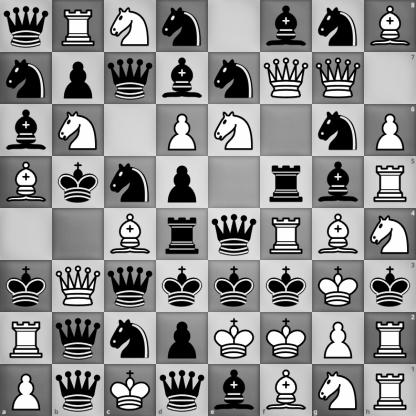B: (260, 364, 312, 416), (364, 0, 416, 52), (1, 157, 52, 208), (105, 209, 156, 260), (313, 209, 364, 260)
K: (104, 364, 156, 416), (209, 313, 260, 364), (261, 313, 312, 364), (313, 261, 364, 312)
N: (312, 364, 364, 416), (364, 209, 416, 260), (53, 105, 104, 156), (105, 1, 156, 52), (209, 105, 260, 156)
P: (0, 364, 52, 416), (364, 104, 416, 156), (157, 105, 208, 156), (313, 313, 364, 364)
Q: (53, 261, 104, 312), (261, 53, 312, 104), (313, 53, 364, 104)
R: (364, 156, 416, 209), (364, 312, 416, 364), (364, 364, 416, 416), (1, 313, 52, 364), (53, 1, 104, 52), (261, 209, 312, 260)
b: (209, 364, 260, 416), (1, 105, 52, 156), (157, 53, 208, 104), (261, 1, 312, 52), (313, 157, 364, 208)
board: (0, 0, 415, 415)
k: (364, 260, 416, 312), (1, 261, 52, 312), (53, 157, 104, 208), (157, 261, 208, 312), (209, 261, 260, 312), (261, 261, 312, 312)
n: (1, 53, 52, 104), (105, 157, 156, 208), (105, 313, 156, 364), (157, 1, 208, 52), (209, 53, 260, 104), (313, 1, 364, 52), (313, 105, 364, 156)
p: (53, 53, 104, 104), (157, 157, 208, 208), (157, 313, 208, 364)
q: (156, 364, 209, 416), (52, 364, 104, 416), (1, 1, 52, 52), (53, 313, 104, 364), (105, 53, 156, 104), (105, 261, 156, 312), (209, 209, 260, 260)
r: (157, 209, 208, 260), (261, 157, 312, 208)
